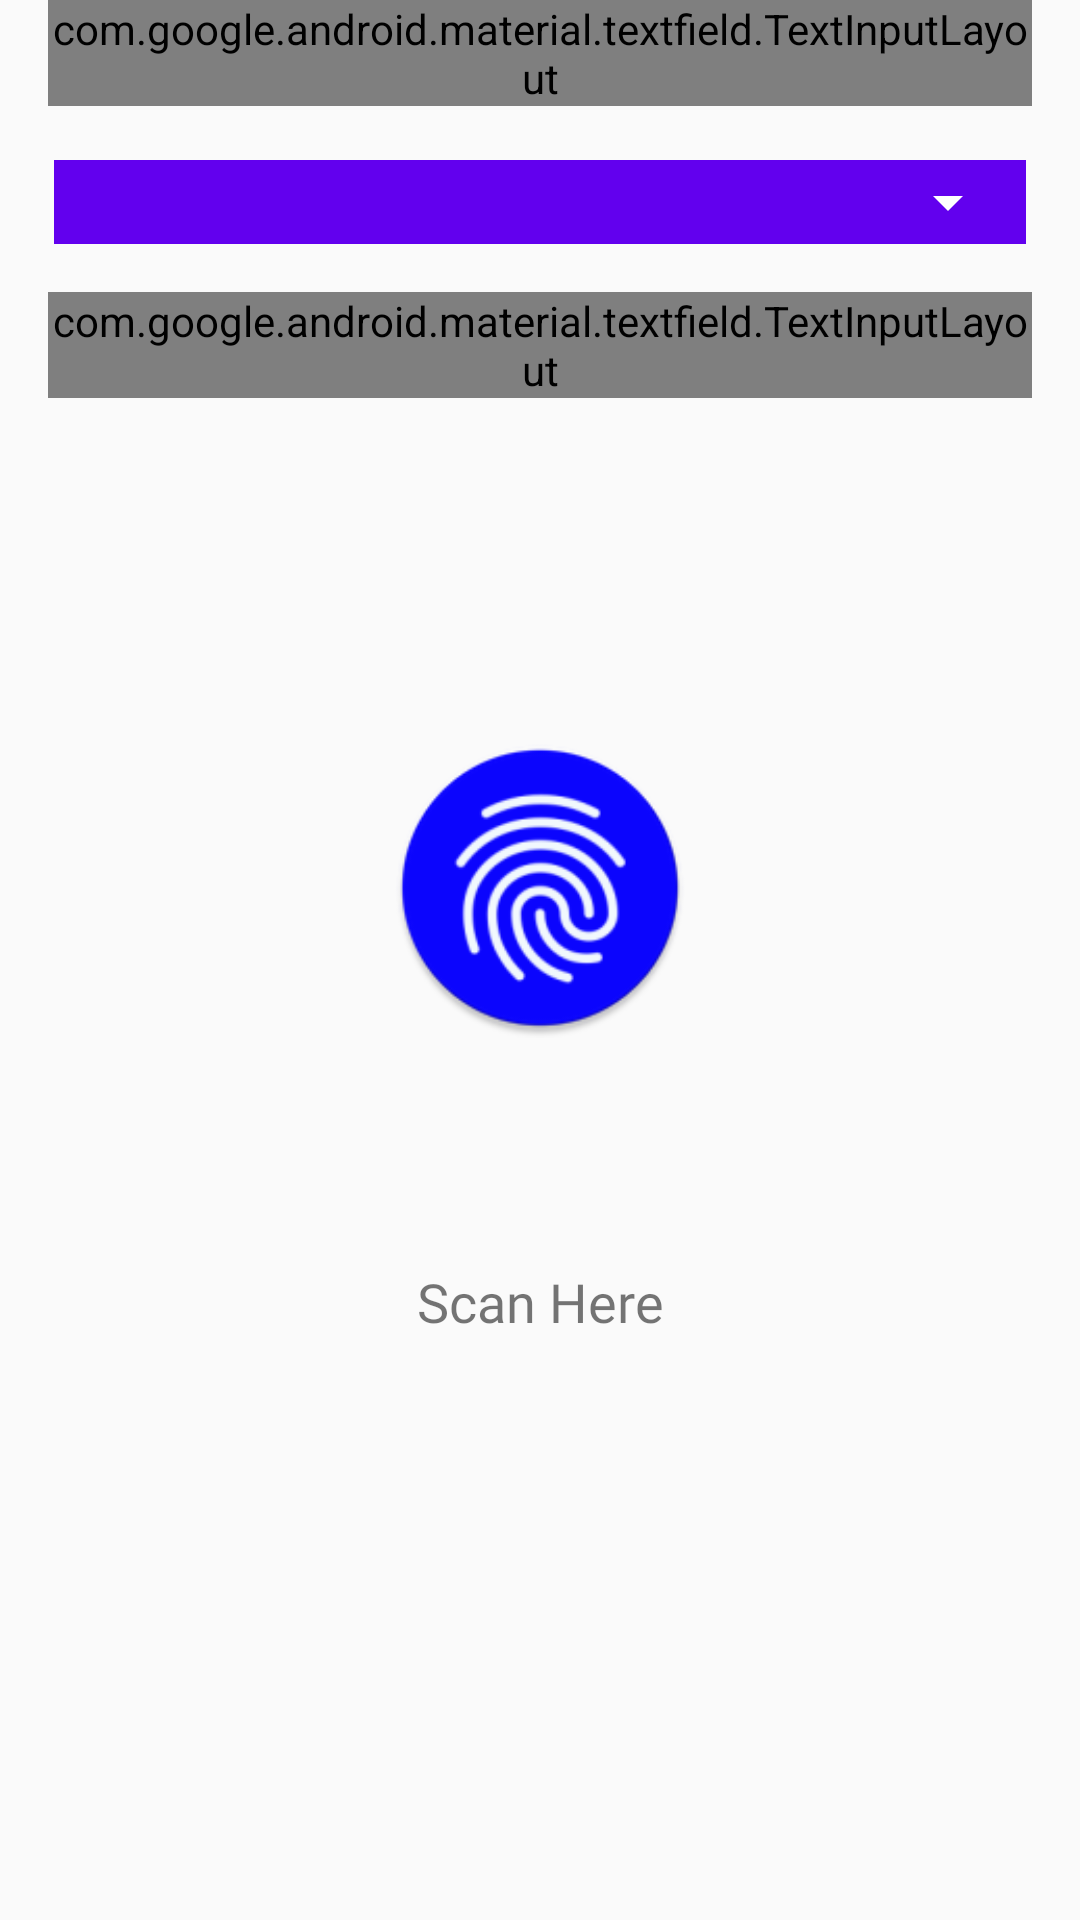

Screen size 1080 x 1920. Icon name, then its box in pixels as (x1, y1, x2, y2):
fingerprint: (400, 748, 680, 1033)
